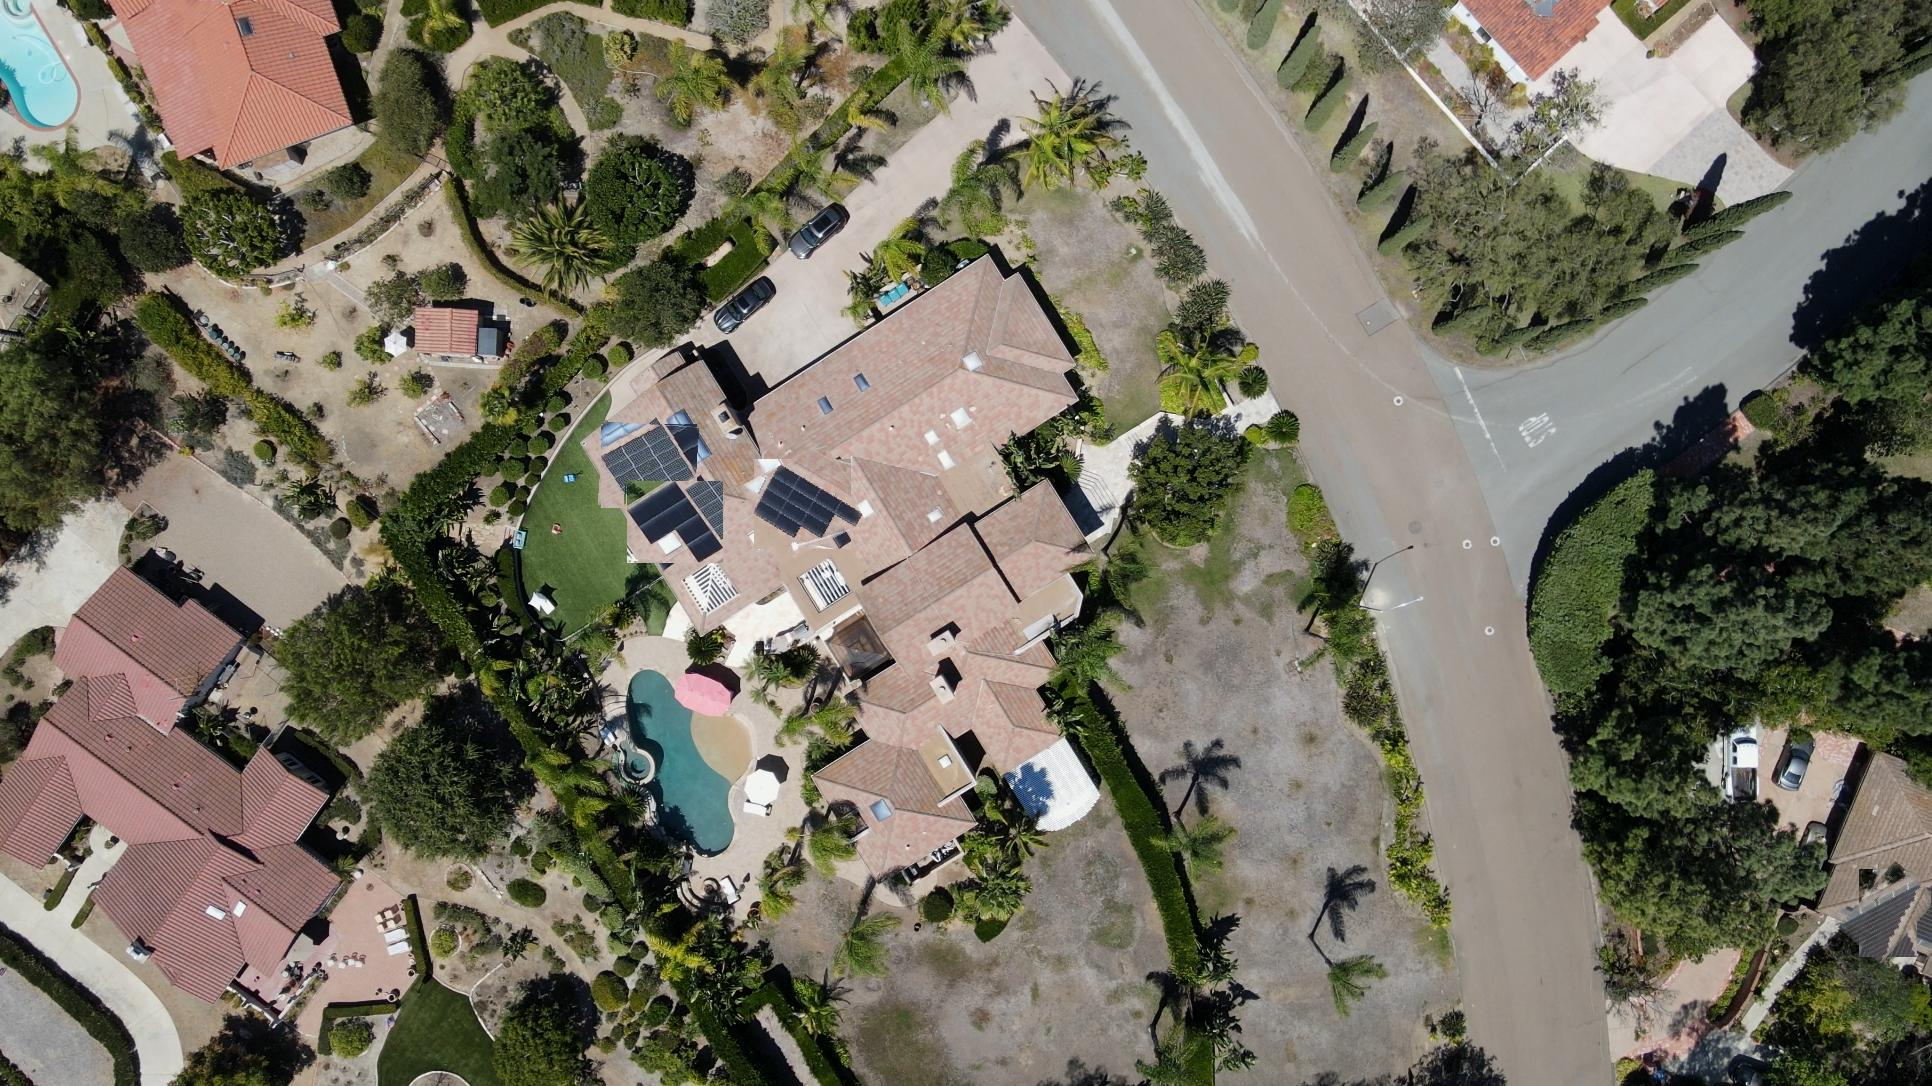solar-panels: (753, 465, 863, 540), (627, 481, 723, 563), (602, 424, 696, 507), (1837, 884, 1920, 964), (1532, 0, 1558, 16)
